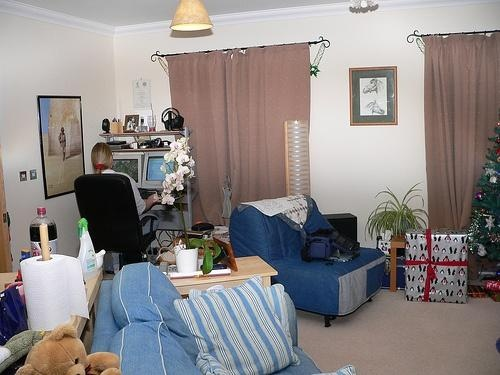bottle: (29, 208, 58, 259)
chair: (226, 196, 387, 327)
pottedplant: (164, 140, 219, 276), (368, 186, 428, 241)
sofa: (91, 262, 327, 375)
tvmonitor: (143, 152, 176, 191), (112, 153, 143, 189)
